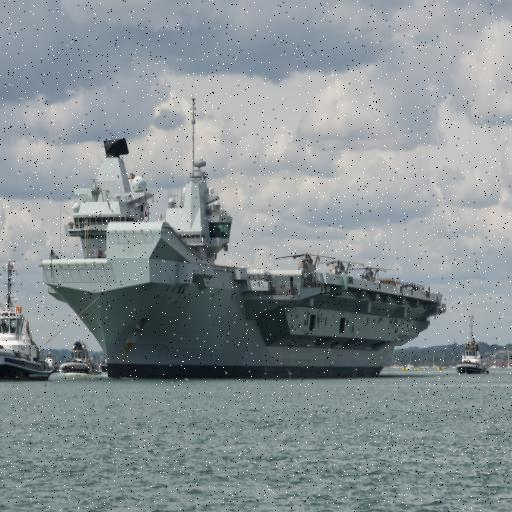Portanaves: (38, 109, 449, 389)
